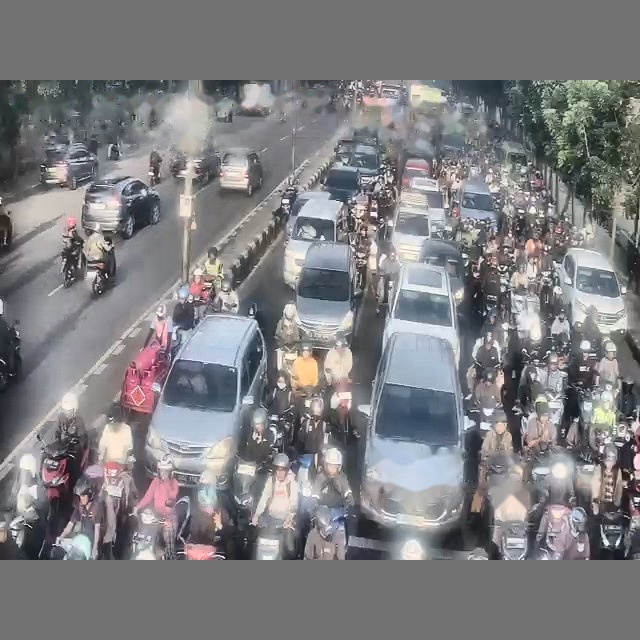Mobil: (358, 333, 465, 531), (145, 314, 266, 488), (383, 263, 460, 363), (296, 242, 362, 349), (559, 248, 627, 335), (283, 199, 347, 287), (81, 176, 159, 238), (419, 238, 465, 307), (40, 144, 97, 189), (409, 178, 452, 236), (390, 203, 430, 262), (219, 148, 263, 195), (454, 179, 497, 224), (170, 145, 220, 183), (286, 191, 329, 235), (321, 165, 360, 203), (347, 144, 380, 185), (401, 157, 432, 187), (615, 228, 639, 265), (334, 138, 357, 163), (441, 132, 465, 155), (352, 127, 379, 145), (215, 98, 235, 122)
Motor: (38, 436, 89, 537), (132, 509, 164, 558)
